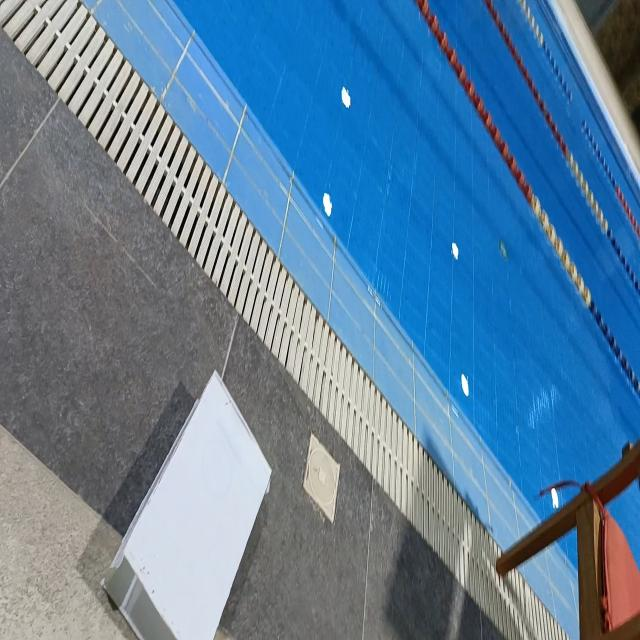Cuboid: (100, 368, 272, 638)
